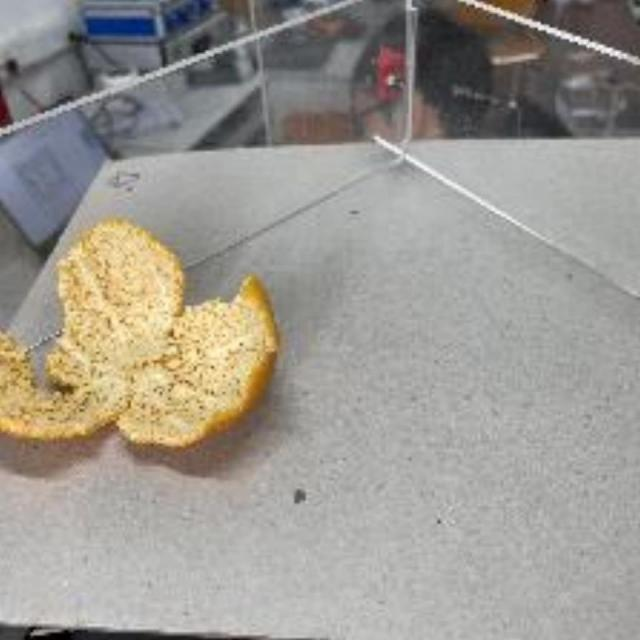orange peel: (0, 220, 284, 473)
